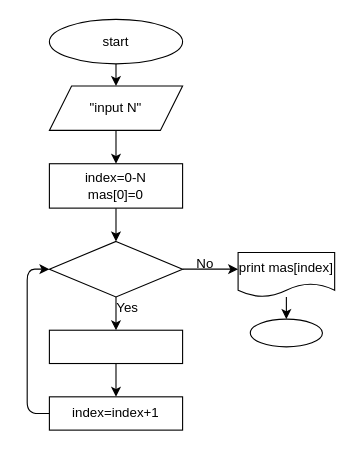
The diagram is 354 pixels wide and 450 high, and some of its shapes have lost their labels. The box of each missing label's shape, as (x1, y1, x2, y2) in pixels:
end: (249, 318, 322, 347)
index<=N: (48, 240, 183, 297)
mas[index]=index: (48, 329, 183, 364)
